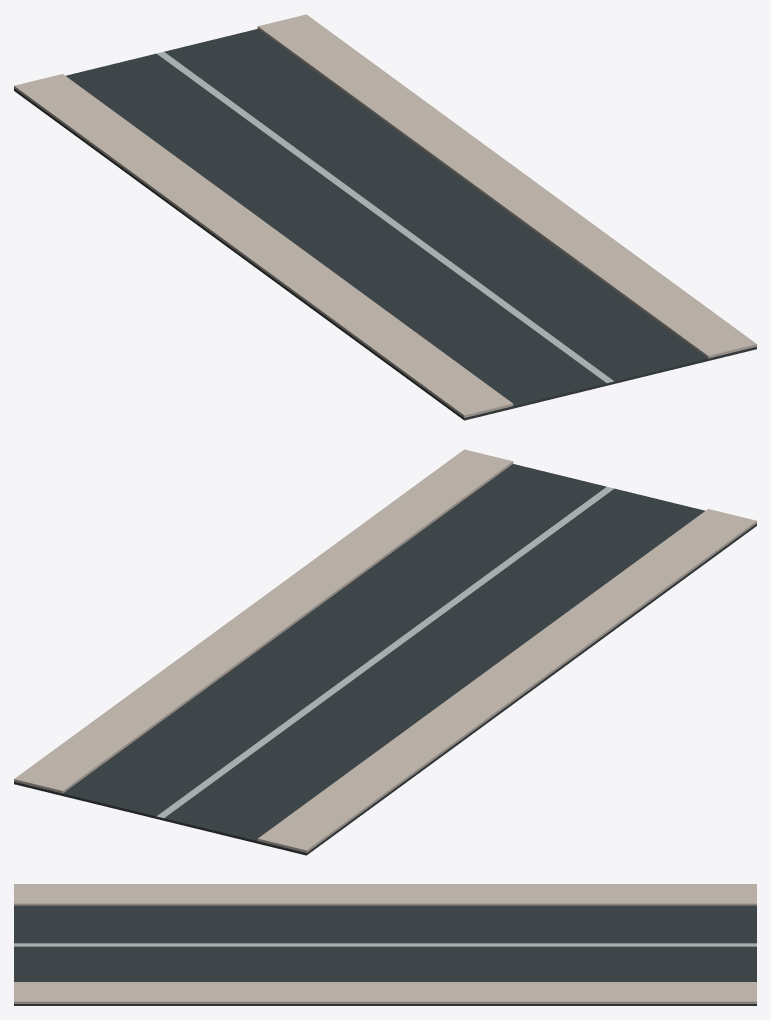
Rendered from SM_road_010.glb.
The picture shows the model from 3 angles, top to bottom: view 1: azimuth 30°, elevation 25°; view 2: azimuth 150°, elevation 25°; view 3: azimuth 270°, elevation 25°; orthographic projection. The views are drawn at different scales.
Visible parts, largest first — view 1: SM_road_010; view 2: SM_road_010; view 3: SM_road_010.
Part boxes in pixels (x1,y1,x2,y2): SM_road_010: (14,14,756,420); SM_road_010: (14,449,756,855); SM_road_010: (14,884,756,1005).
Size of the model in its own units: 6 by 0.1 by 16.
Materials: 1 (1 with a texture image).
